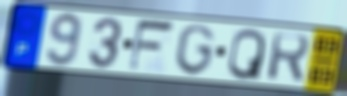3: (85, 16, 123, 71)
9: (44, 11, 84, 69)
F: (126, 18, 178, 74)
G: (173, 23, 217, 77)
Q: (226, 27, 268, 81)
R: (265, 31, 312, 84)
